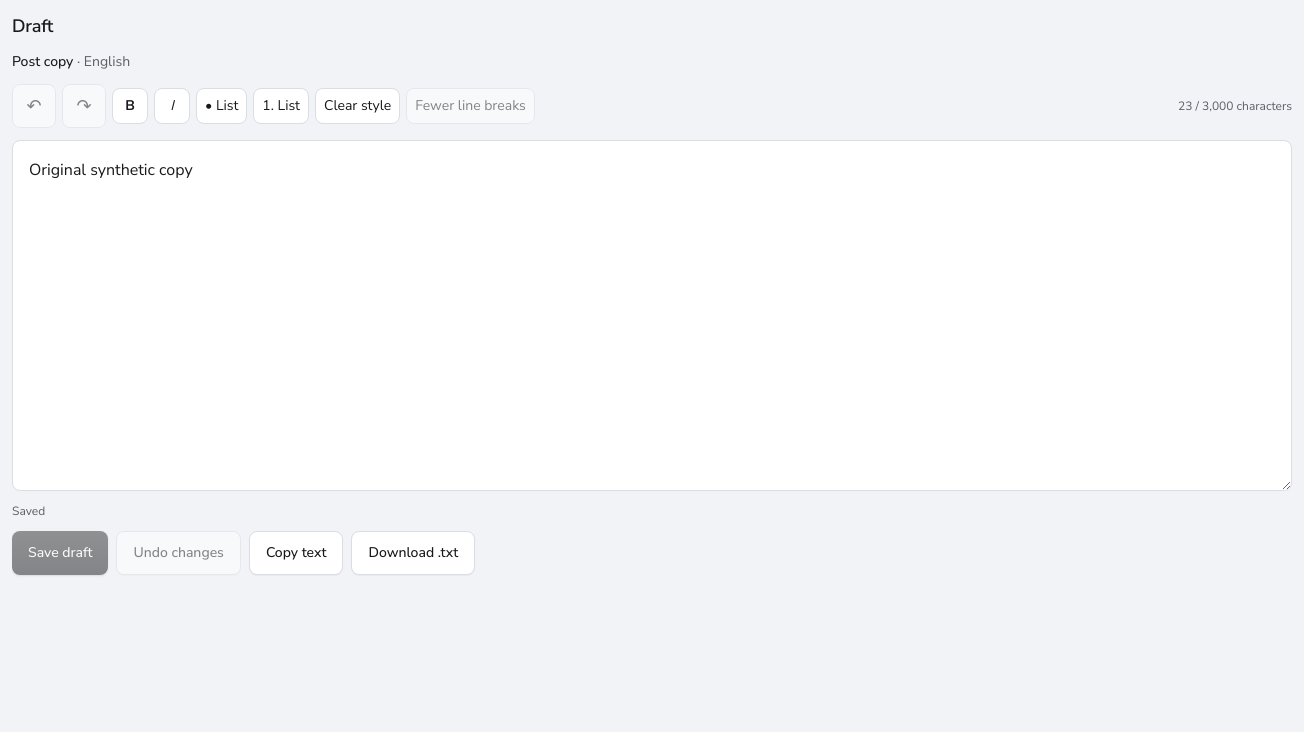
PostEditor save notification (CS-050) › confirms a Sheet save with a pending derived copy without leaving the draft dirty
Replace the text in the text box with "Pending synthetic copy": (652, 315) x1=12 y1=140 x2=1292 y2=491
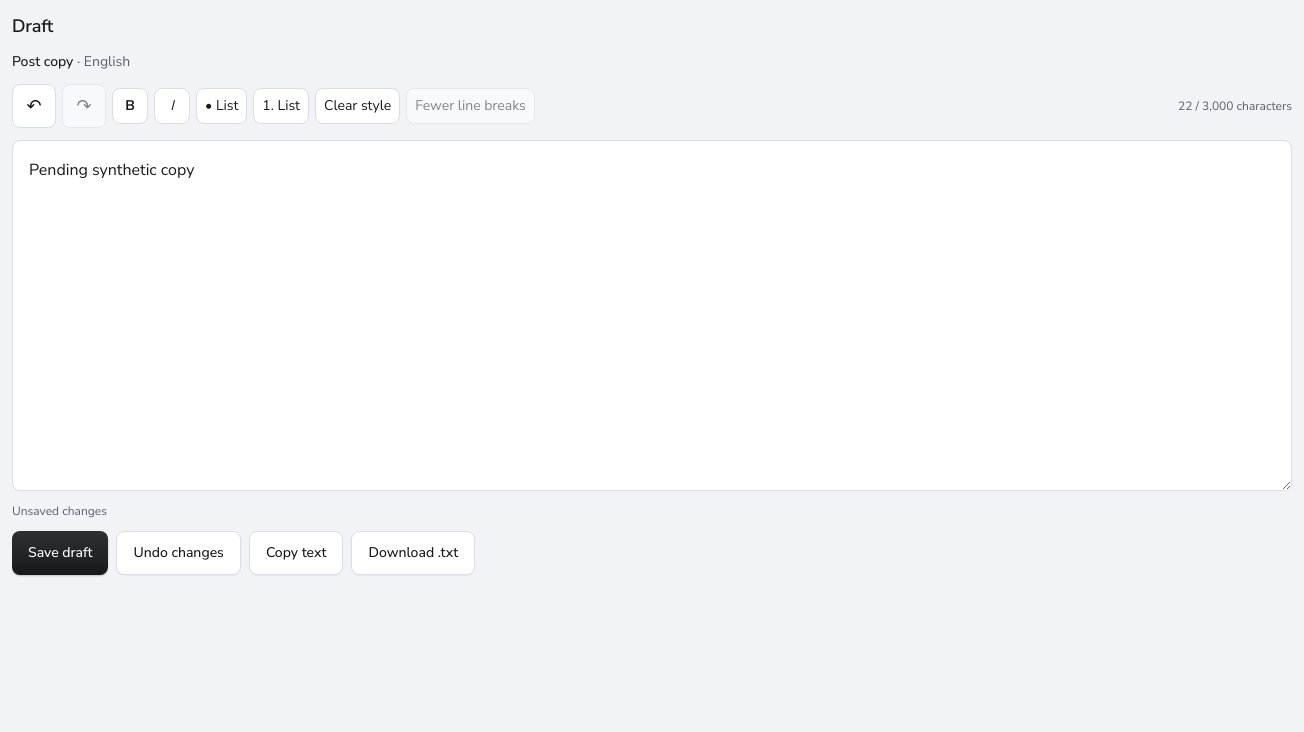
Click the button "Save draft": (60, 553) x1=12 y1=531 x2=108 y2=575
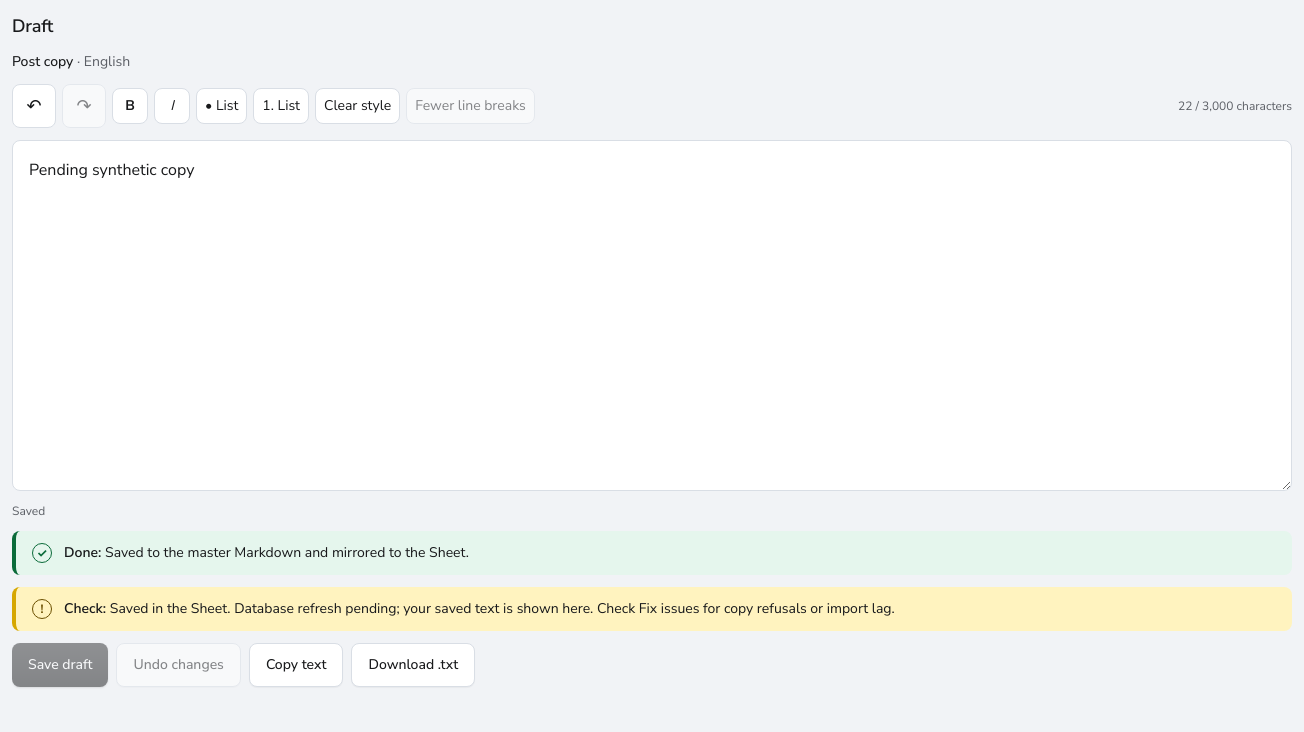
Expected: the text "Saved in the Sheet. Database refresh pending;" is shown, x1=110 y1=599 x2=895 y2=618
